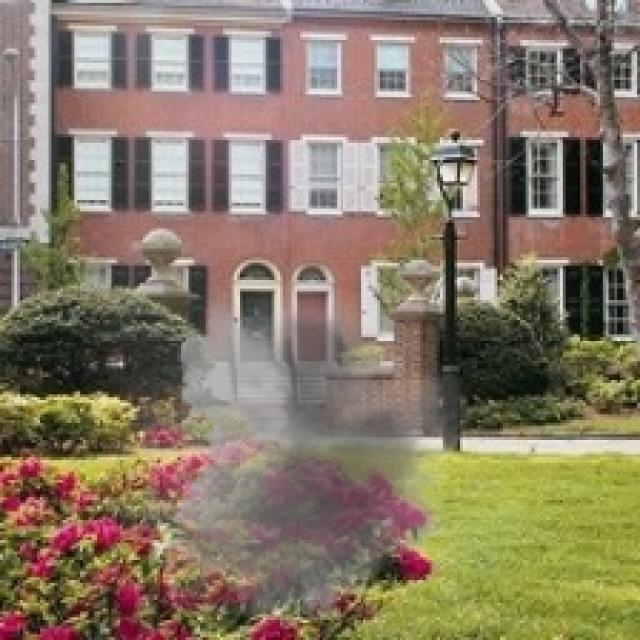smoke: (100, 280, 486, 637)
